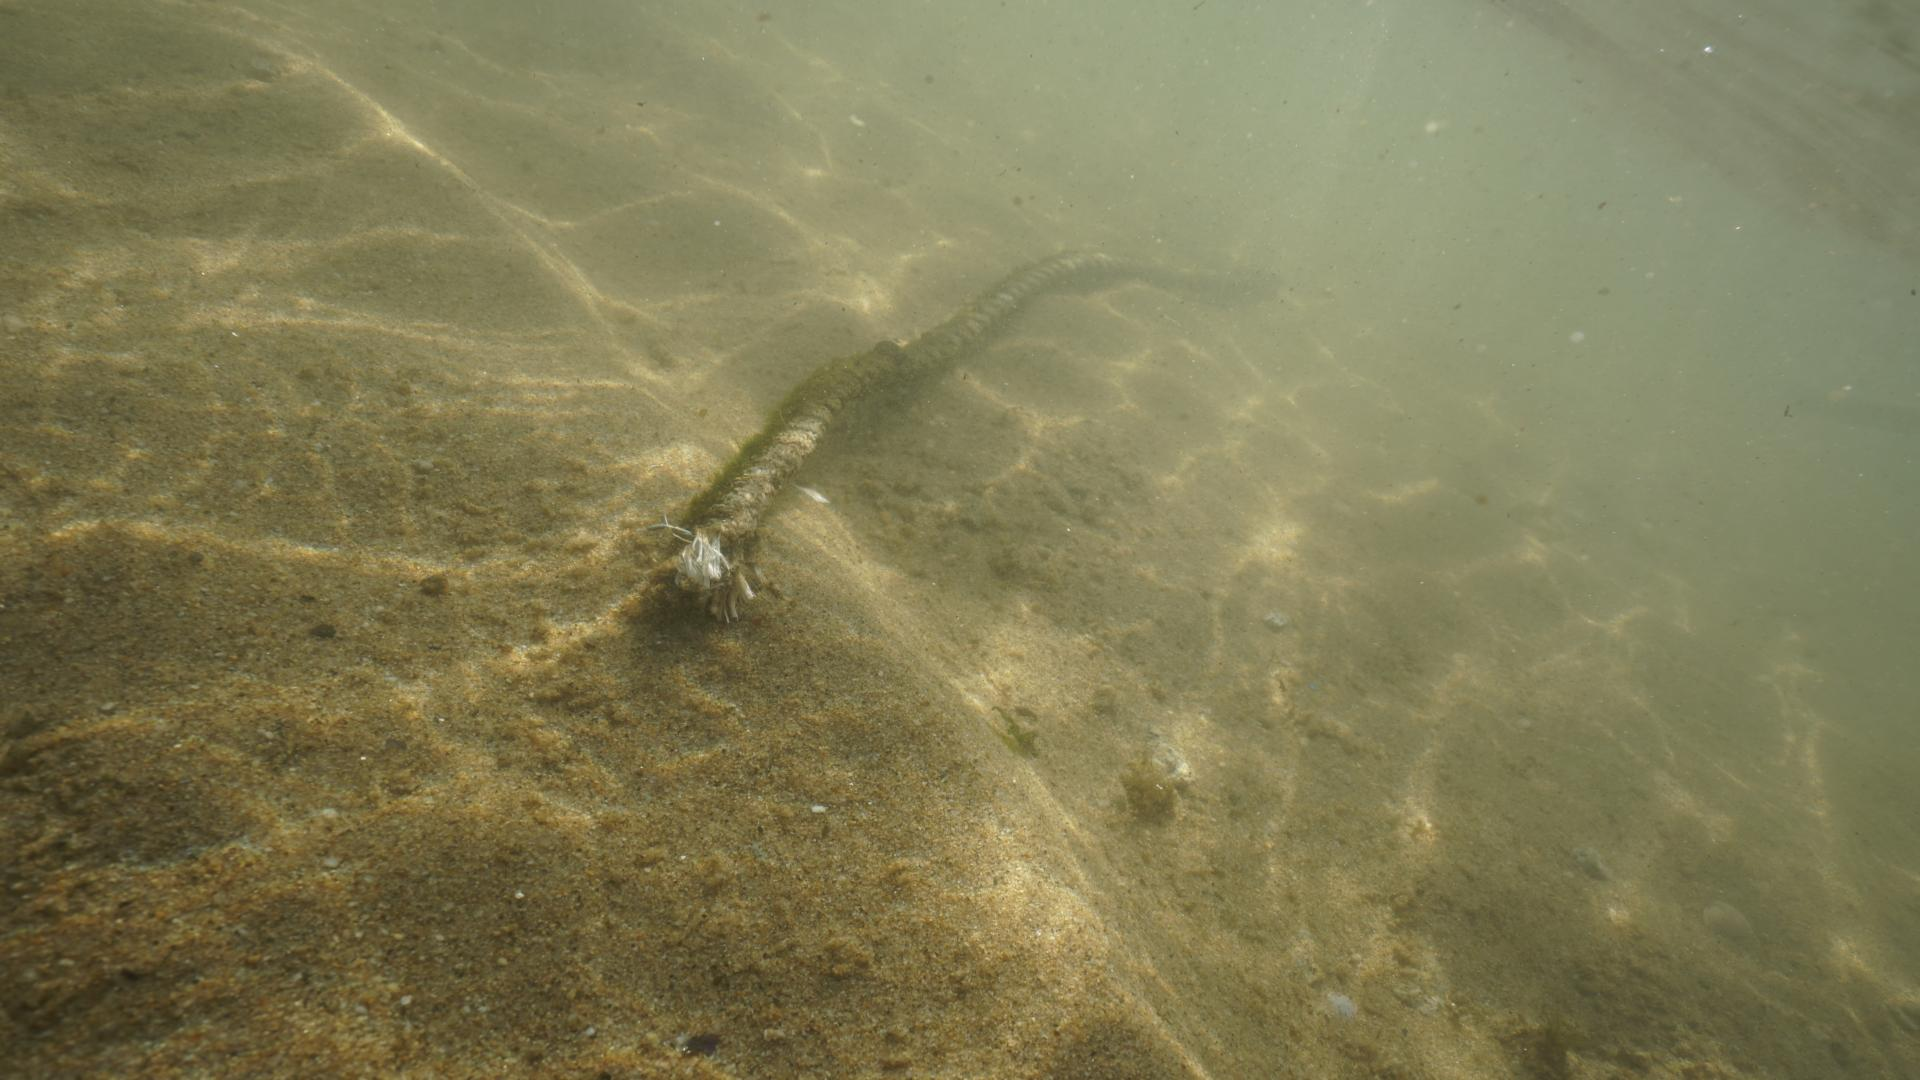rope: (687, 245, 1292, 531)
